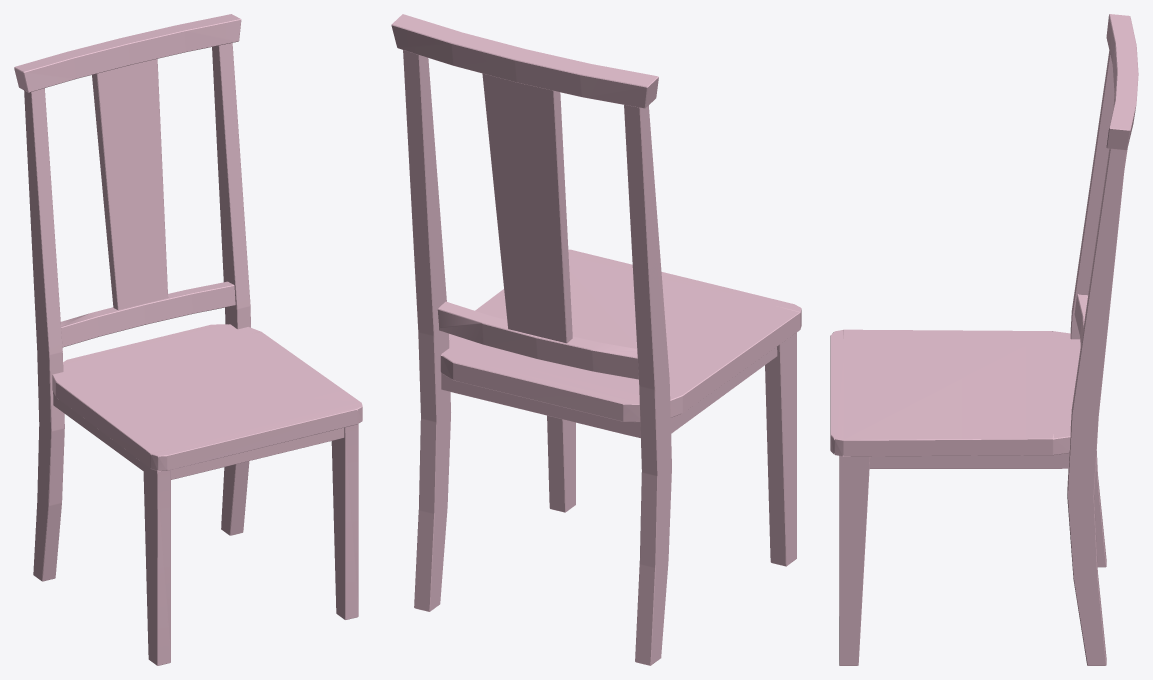
The model's file is Chair2.fbx.
3 views of the same model, side by side, from view 1: azimuth 30°, elevation 25°; view 2: azimuth 150°, elevation 25°; view 3: azimuth 270°, elevation 25° (orthographic). The views are drawn at different scales.
Visible parts, largest first — view 1: chair_01:chair_01; view 2: chair_01:chair_01; view 3: chair_01:chair_01.
Boxes of the visible parts, x1,y1,x2,y2 form: chair_01:chair_01: (14,14,362,665); chair_01:chair_01: (391,14,801,665); chair_01:chair_01: (830,14,1138,665).
Bounding box in the file's own units: 2.2 × 4.85 × 2.5.
